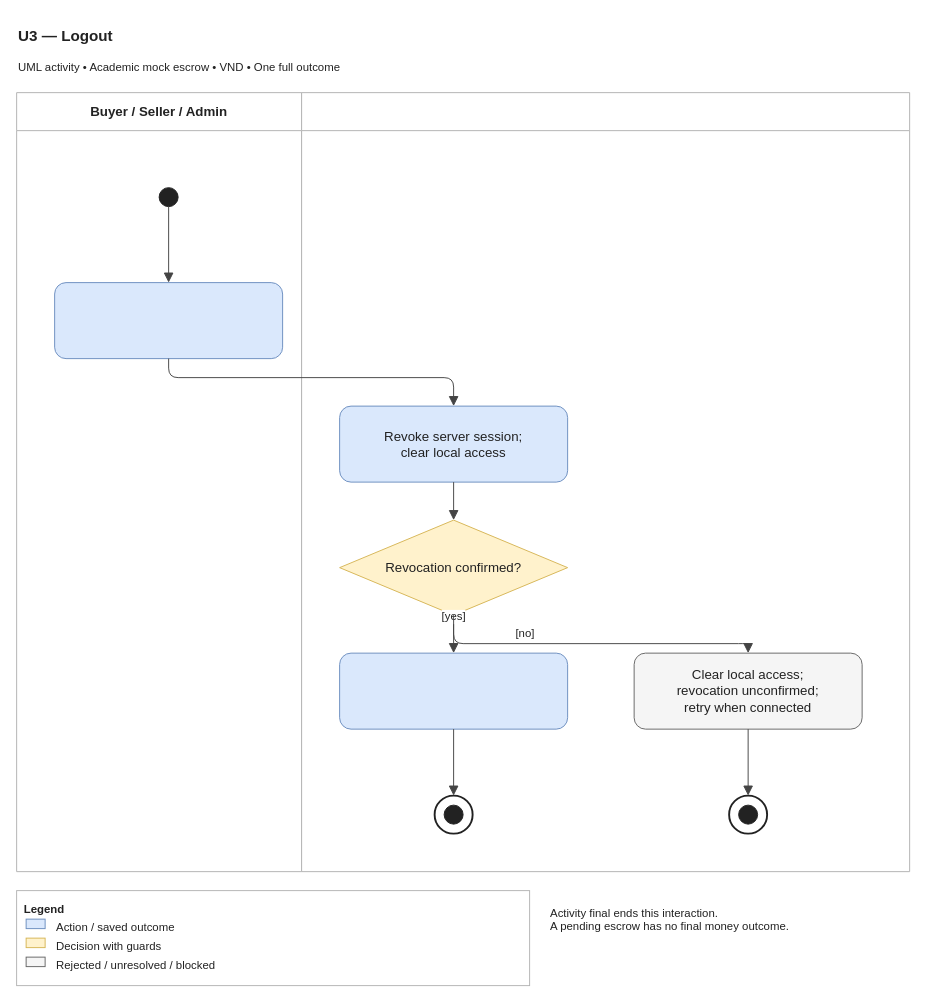
This 926x1002 diagram has some shape labels left out. The shapes that lost their labels are listed below. From the top down, each one's box as (x1, y1, x2, y2) in pixels, then its label:
(54, 282, 283, 359): Select Logout
(301, 92, 910, 872): EPS
(339, 652, 568, 729): Return to Login; require fresh MFA
